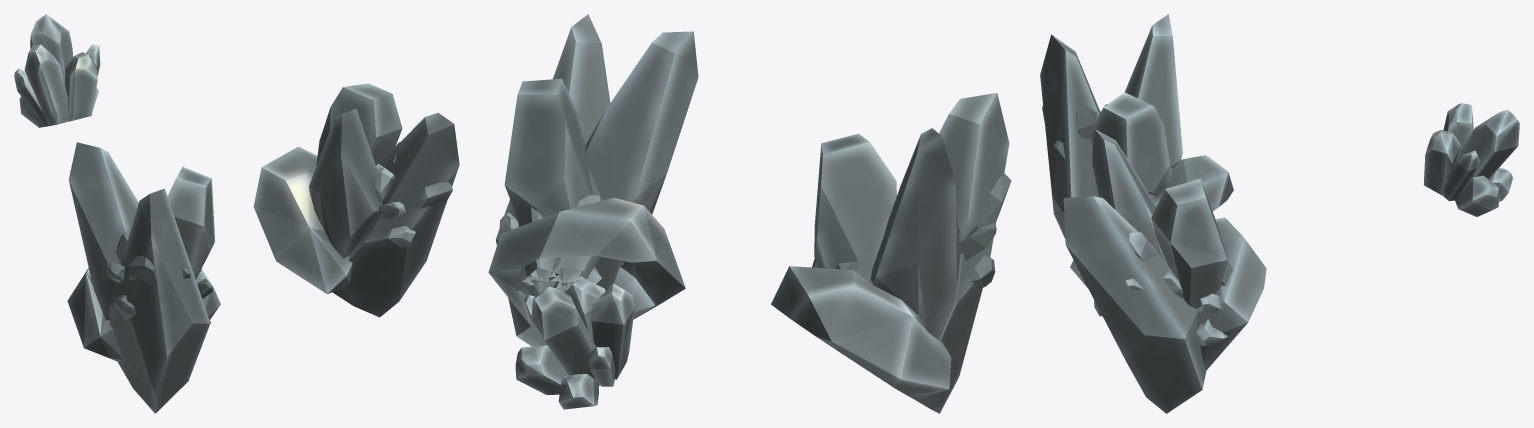
File: mine.fbx
3 views of the same model, side by side, from view 1: azimuth 30°, elevation 25°; view 2: azimuth 150°, elevation 25°; view 3: azimuth 270°, elevation 25° (orthographic). The views are drawn at different scales.
Visible parts, largest first — view 1: crystal.002_Baked; view 2: crystal.002_Baked; view 3: crystal.002_Baked.
Boxes of the visible parts, <box> form: crystal.002_Baked: <box>14,14,459,413</box>; crystal.002_Baked: <box>488,14,1011,413</box>; crystal.002_Baked: <box>1040,14,1519,413</box>.
Size of the model in its own units: 48.03 by 33.18 by 56.33.
Materials: 1 (1 with a texture image).
